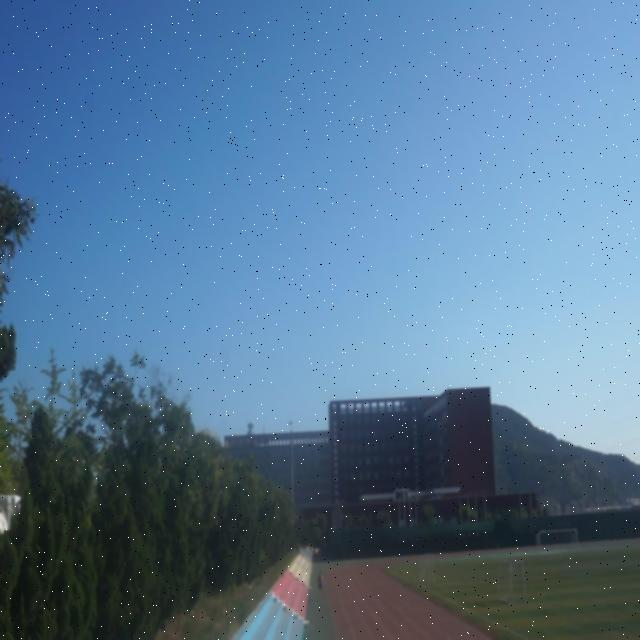UAV: (288, 420, 293, 426)
